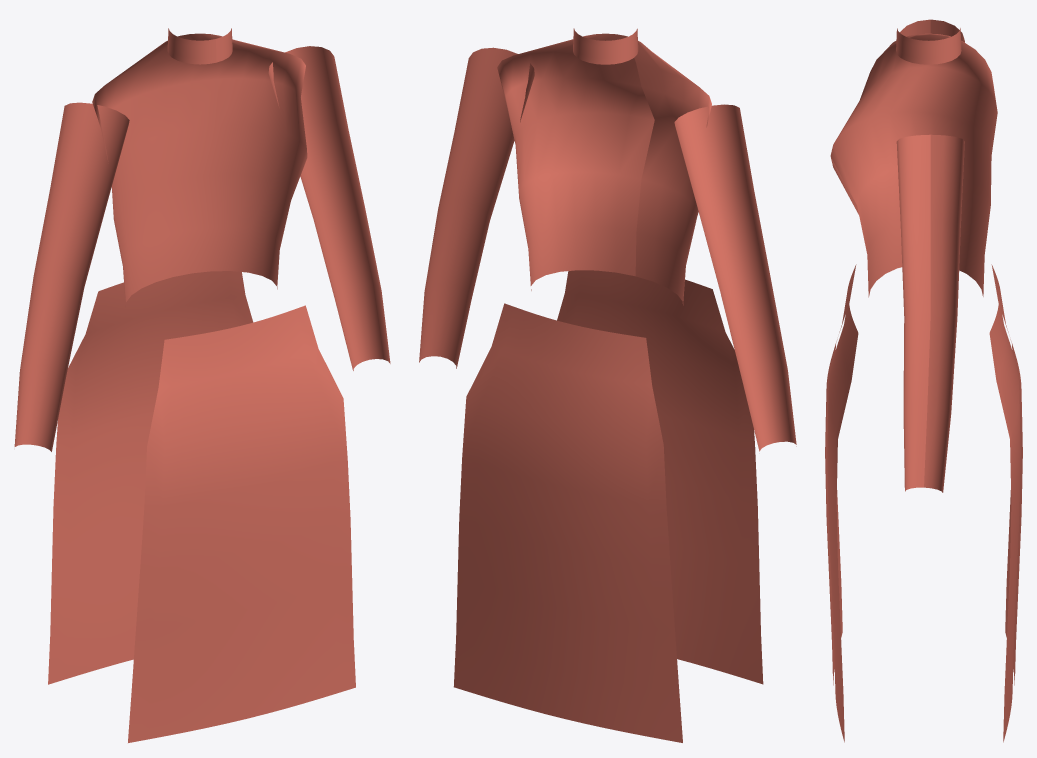
File: aodai_classic_01.glb
The picture shows the model from 3 angles, left to right: view 1: azimuth 30°, elevation 25°; view 2: azimuth 150°, elevation 25°; view 3: azimuth 270°, elevation 25°; orthographic projection.
Parts seen in each view (by area): view 1: AoDai_Classic_01_Node; view 2: AoDai_Classic_01_Node; view 3: AoDai_Classic_01_Node.
Part boxes in pixels (x1,y1,x2,y2): AoDai_Classic_01_Node: (14, 28, 390, 742); AoDai_Classic_01_Node: (419, 28, 796, 742); AoDai_Classic_01_Node: (825, 19, 1022, 742).
Size of the model in its own units: 0.6312 by 1.07 by 0.29.
